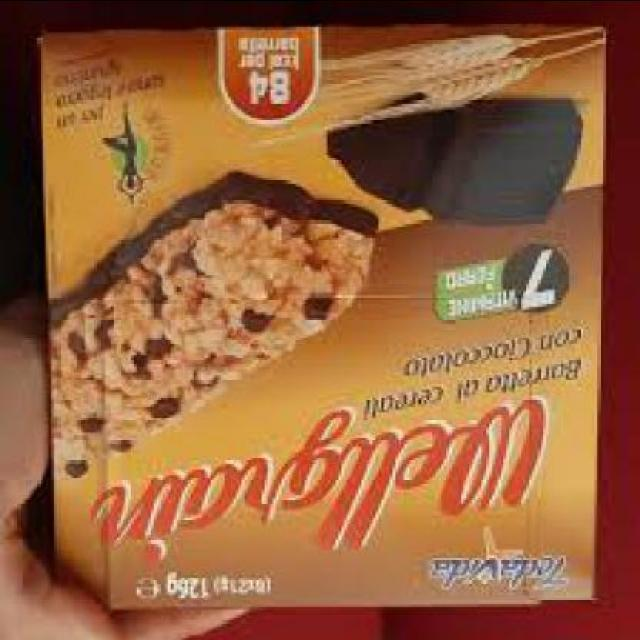Cereal bar: (54, 2, 612, 614)
